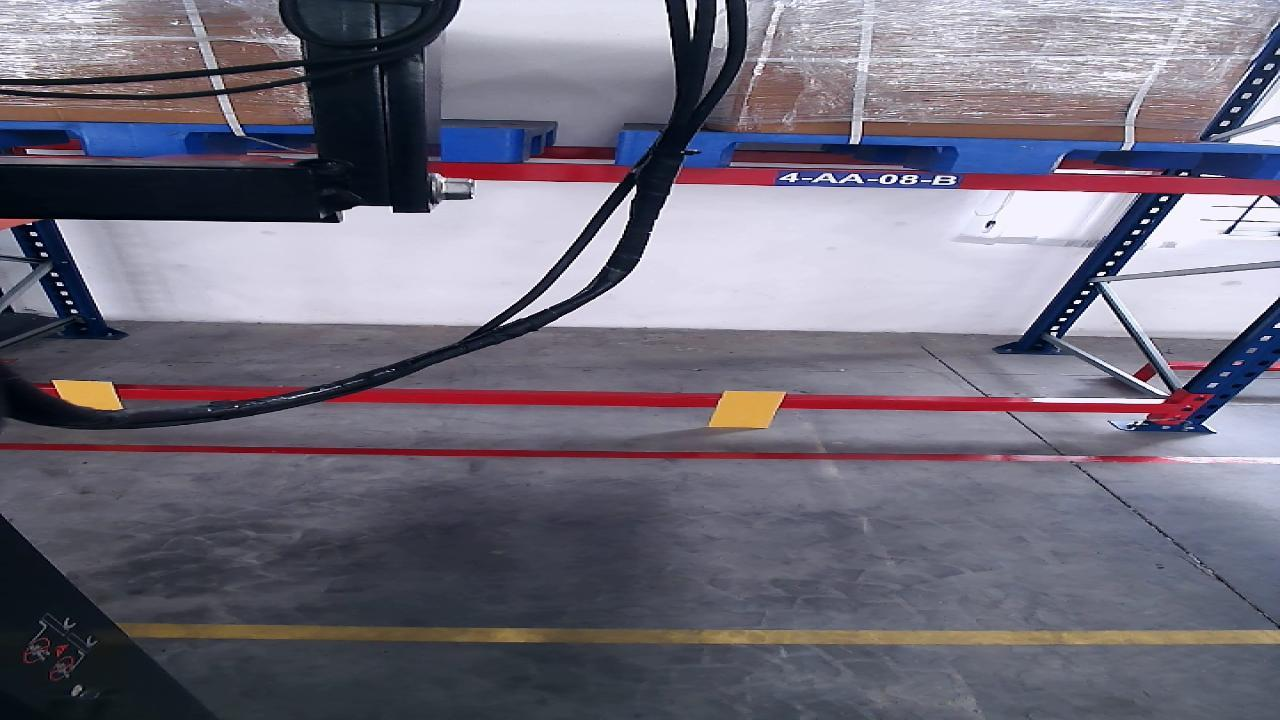h_rack: (36, 389, 1169, 413), (442, 164, 1279, 196)
orange_strip: (707, 391, 785, 427)
red_line: (0, 443, 1279, 464)
small_pallet: (616, 131, 1279, 179), (0, 124, 512, 162)
yellow_line: (115, 624, 1276, 644)
